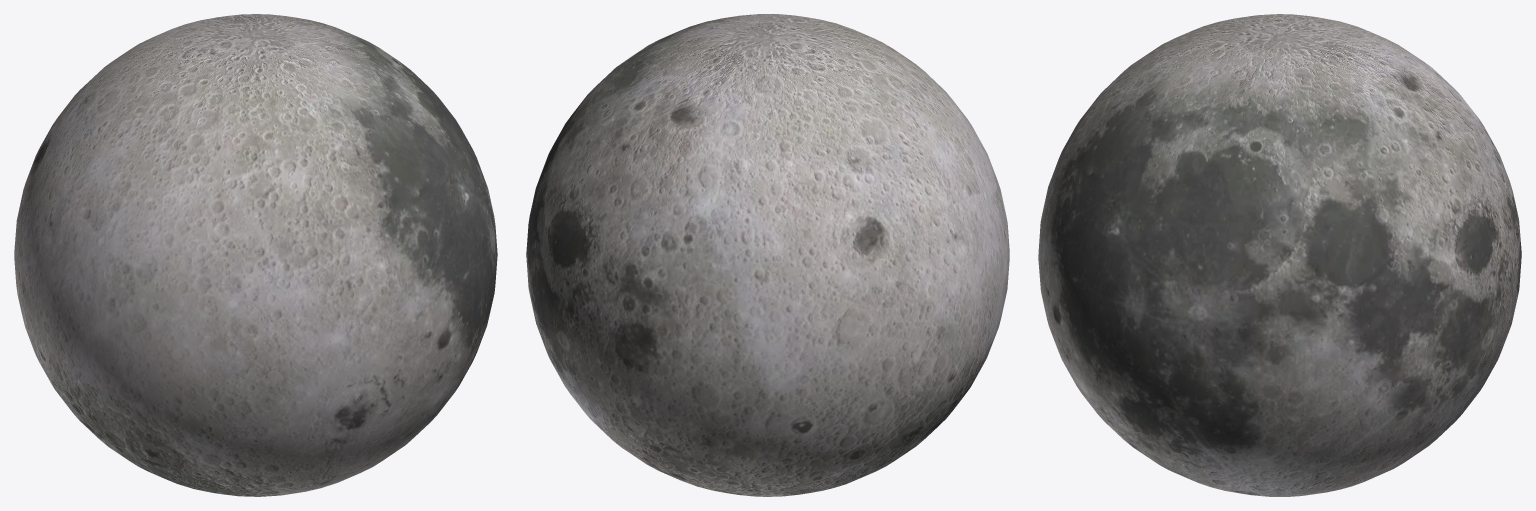
The model's file is moon.glb.
The picture shows the model from 3 angles, left to right: view 1: azimuth 30°, elevation 25°; view 2: azimuth 150°, elevation 25°; view 3: azimuth 270°, elevation 25°; orthographic projection.
Visible parts, largest first — view 1: Sphere; view 2: Sphere; view 3: Sphere.
Boxes of the visible parts, bbox=[...] form: Sphere: bbox=[14, 14, 497, 496]; Sphere: bbox=[526, 14, 1009, 496]; Sphere: bbox=[1038, 14, 1521, 496].
Bounding box in the file's own units: 200 × 200 × 200.
1 material, 1 textured.
